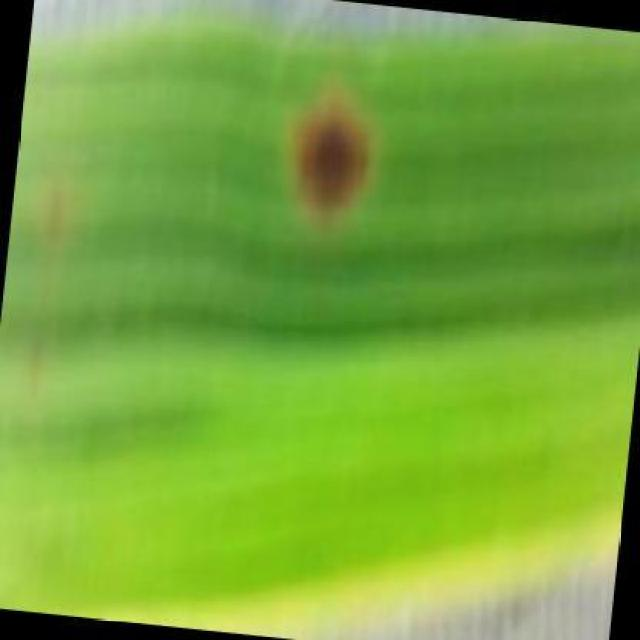Leaf_Blast: (266, 78, 405, 255), (16, 162, 98, 263), (7, 328, 65, 415)
